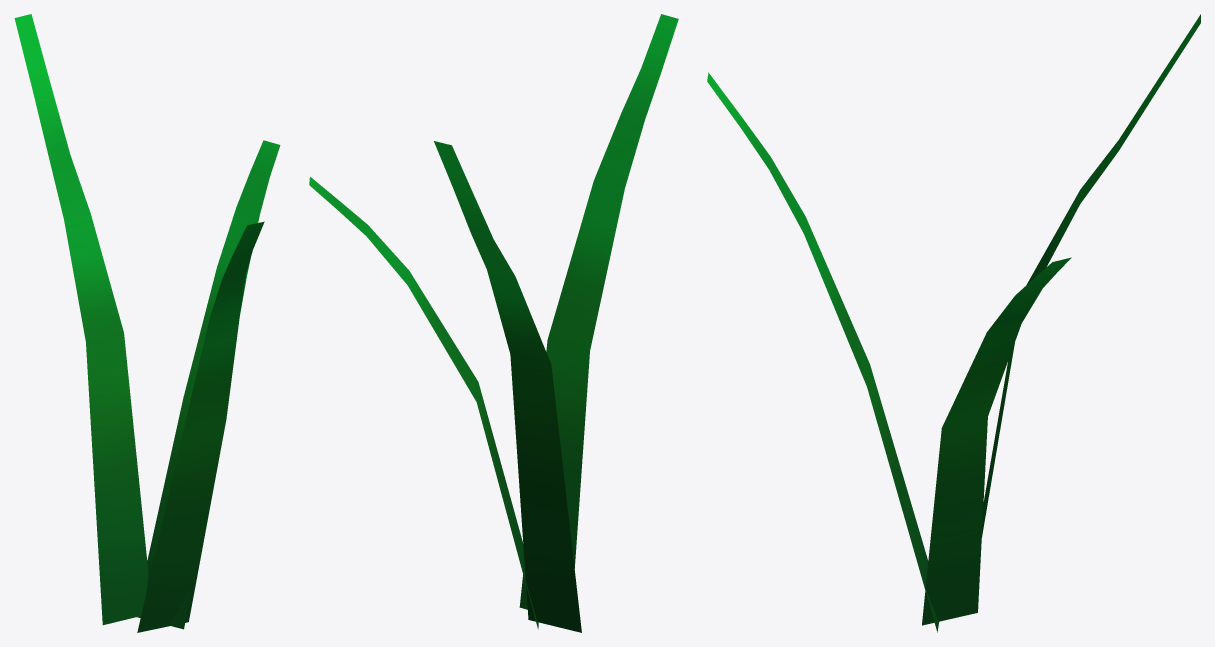
Rendered from matinho2.fbx.
3 renders of one model, left to right at view 1: azimuth 30°, elevation 25°; view 2: azimuth 150°, elevation 25°; view 3: azimuth 270°, elevation 25°, orthographic. The views are drawn at different scales.
Visible parts, largest first — view 1: mato alto; view 2: mato alto; view 3: mato alto.
Boxes of the visible parts, <box> form: mato alto: <box>14,14,280,632</box>; mato alto: <box>309,14,678,632</box>; mato alto: <box>707,14,1200,632</box>.
Bounding box in the file's own units: 45.42 × 107 × 81.23.
Materials: 1 (1 with a texture image).
